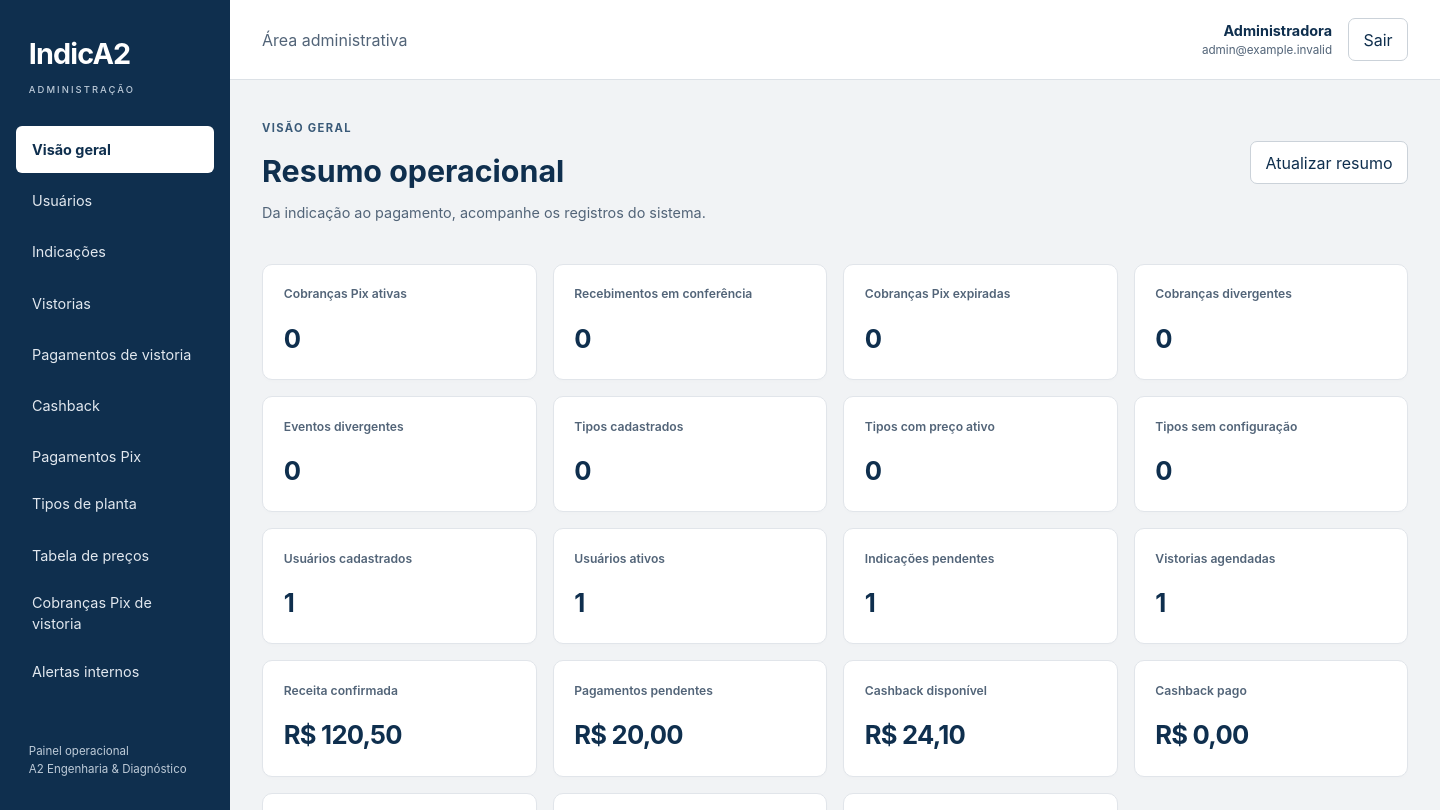
Test: Sessão administrativa › logout remove sessão e dados do painel
The width and height of the screenshot is (1440, 810).
Check: the text "R$ 120,50" is shown, box [284,719,402,750]
Click the button "Sair" at (1378, 40), box [1348,18,1408,61]
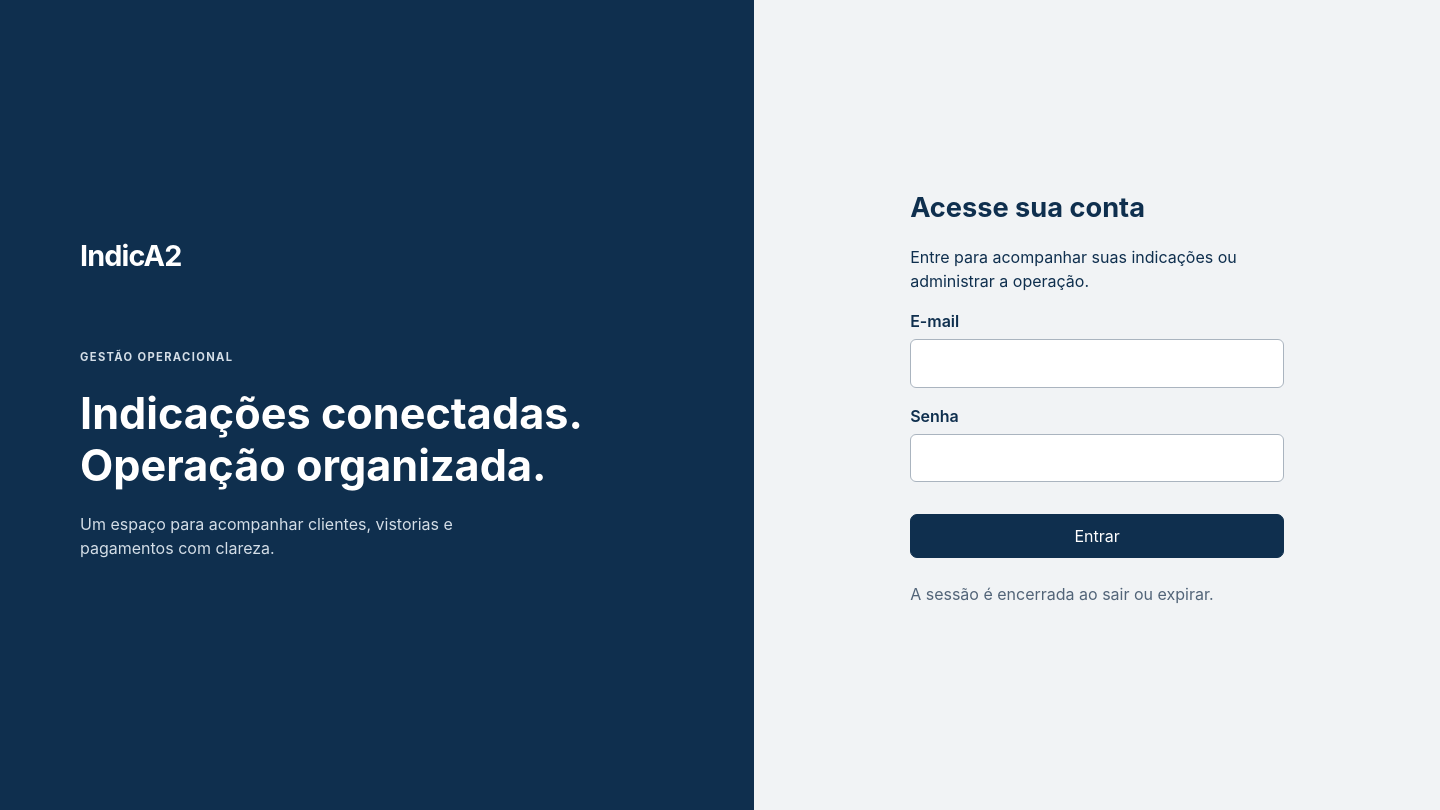
Check: the button "Entrar" is shown, box [910,514,1284,558]
Check: the text "R$ 120,50" is gone
